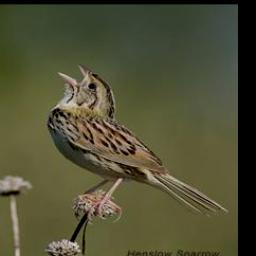Sparrow: (44, 60, 234, 228)
